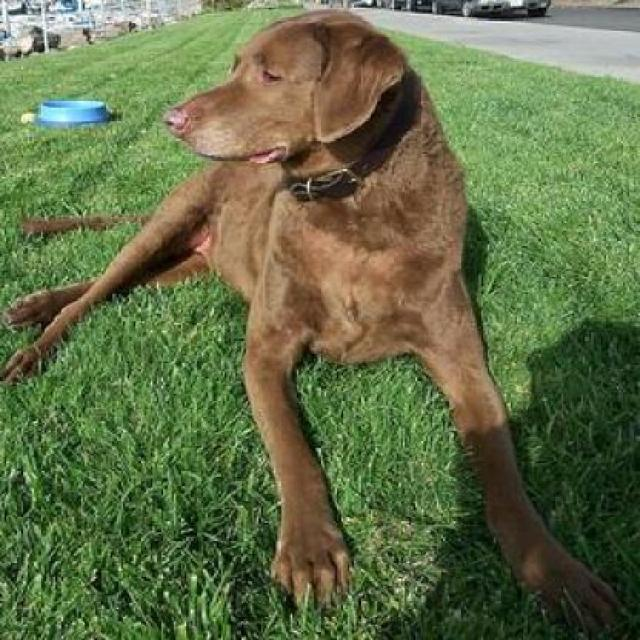Dog: (3, 9, 626, 638)
